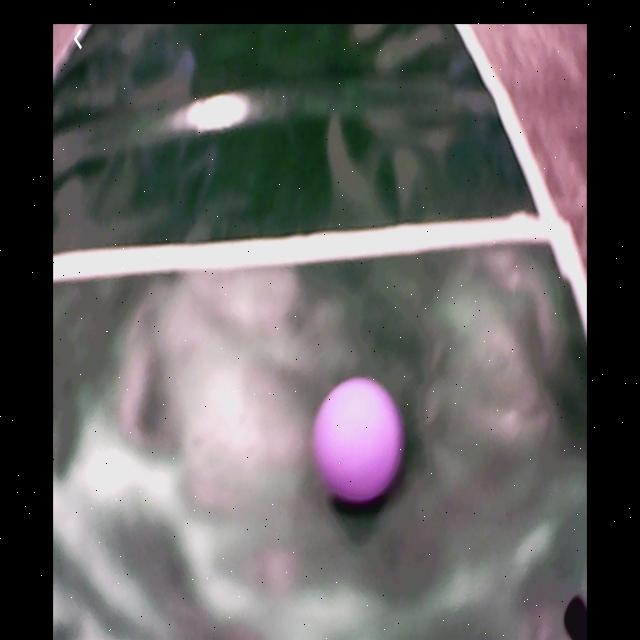ball: (316, 379, 402, 502)
